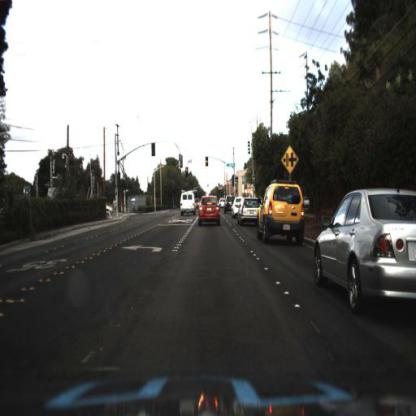car: (310, 187, 416, 310), (252, 176, 311, 246), (190, 186, 224, 228), (240, 192, 258, 232), (176, 186, 193, 216), (231, 192, 242, 222), (222, 193, 234, 216)
trafficLight: (203, 152, 208, 174), (183, 163, 189, 178)
